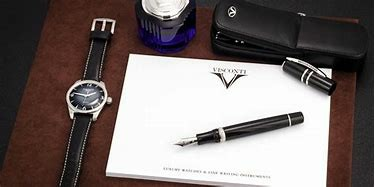pen: (170, 107, 305, 151)
